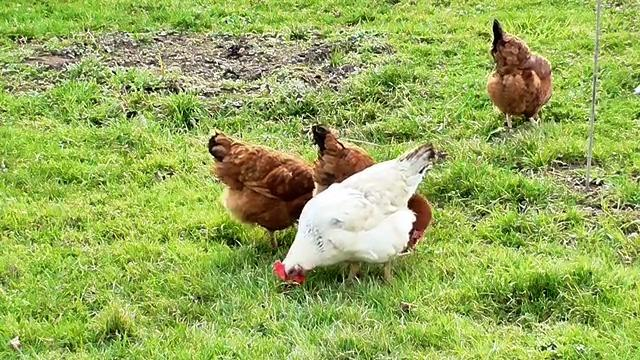Normal: (277, 149, 439, 290), (205, 119, 312, 229), (488, 22, 555, 127)
